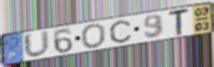6: (52, 27, 75, 55)
9: (143, 14, 165, 40)
C: (108, 19, 133, 44)
O: (80, 23, 108, 50)
T: (168, 7, 191, 37)
U: (23, 29, 52, 59)
